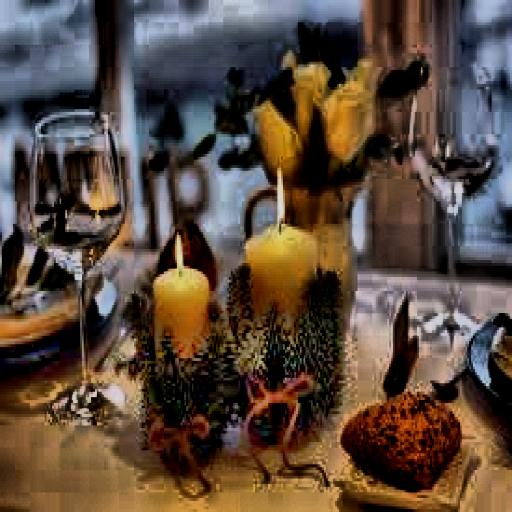fire: (270, 165, 289, 221), (171, 229, 186, 277)
